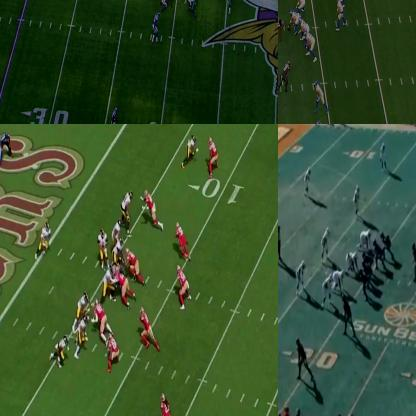CENTER: (113, 236, 124, 260), (288, 10, 299, 30), (361, 251, 373, 268)
DB: (107, 333, 119, 372), (208, 136, 218, 176), (158, 390, 173, 415), (302, 166, 312, 198), (355, 186, 362, 214), (110, 105, 119, 123), (380, 142, 385, 170)
LB: (138, 305, 160, 349), (176, 262, 192, 311), (174, 220, 191, 261), (298, 265, 308, 299), (322, 226, 329, 261), (152, 12, 159, 42)
QB: (97, 228, 109, 266), (336, 0, 347, 31), (410, 243, 415, 284)
SKILL: (49, 334, 70, 367), (34, 220, 51, 259), (74, 316, 90, 356), (182, 131, 198, 169), (341, 294, 353, 332), (296, 340, 308, 375), (314, 81, 324, 112), (77, 290, 90, 313), (225, 0, 233, 7)
